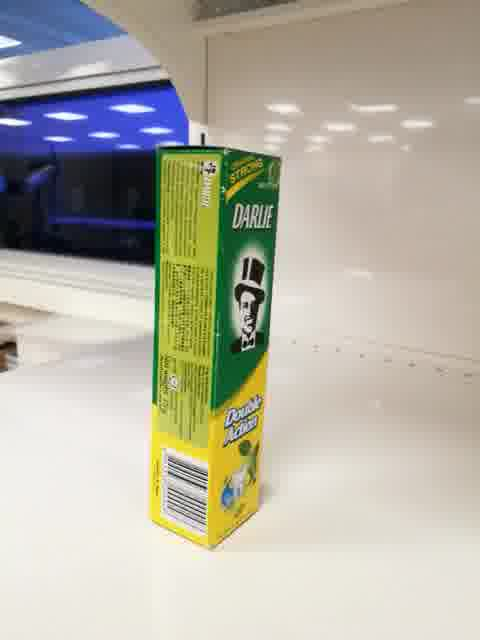toothpaste: (149, 144, 282, 552)
